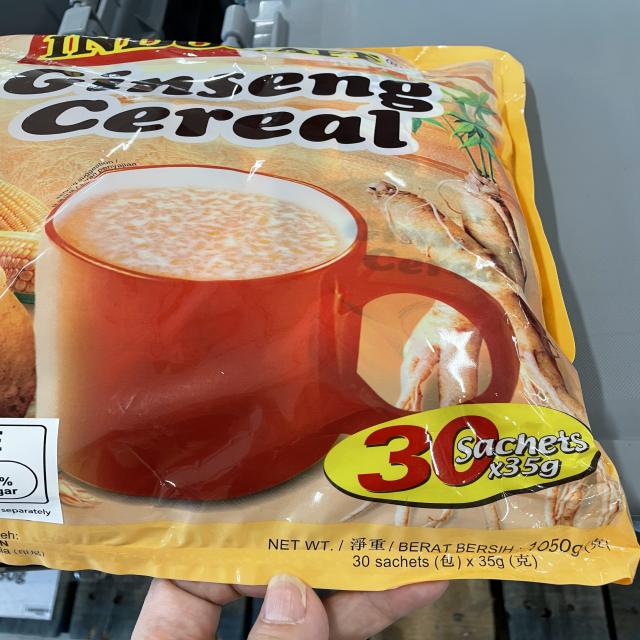object_name: (2, 37, 615, 583)
